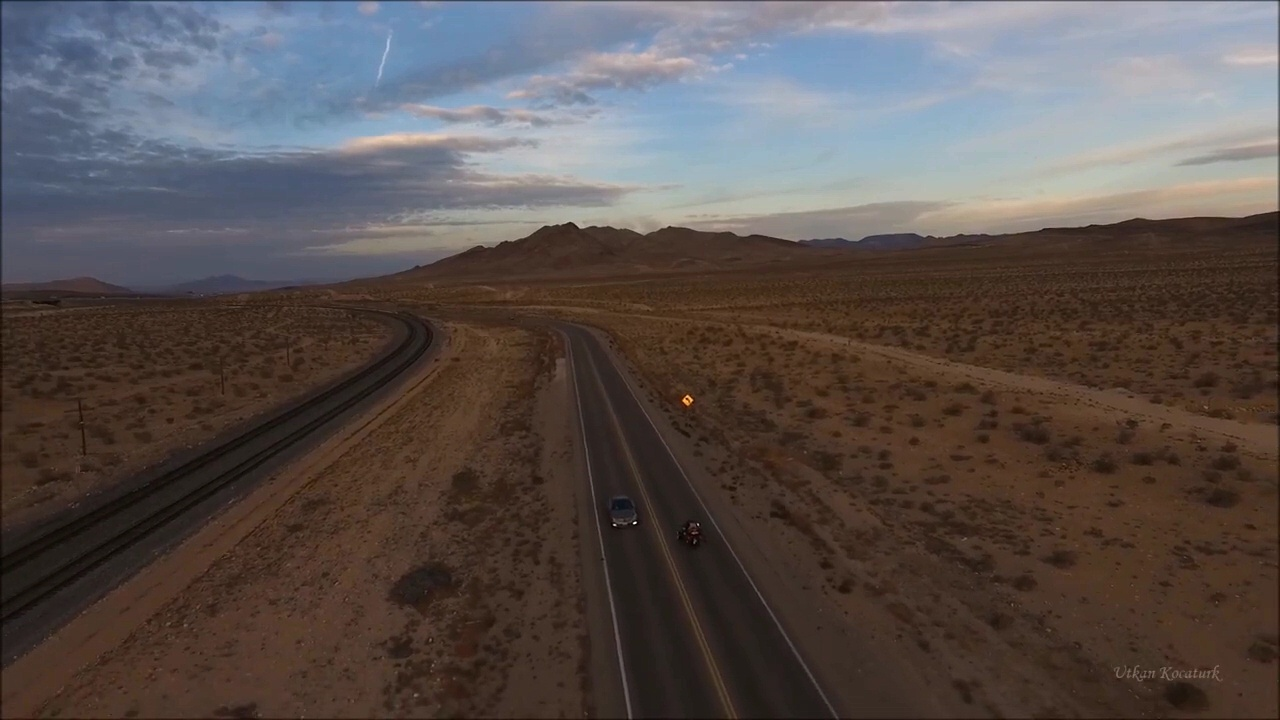araba: (609, 494, 641, 530)
